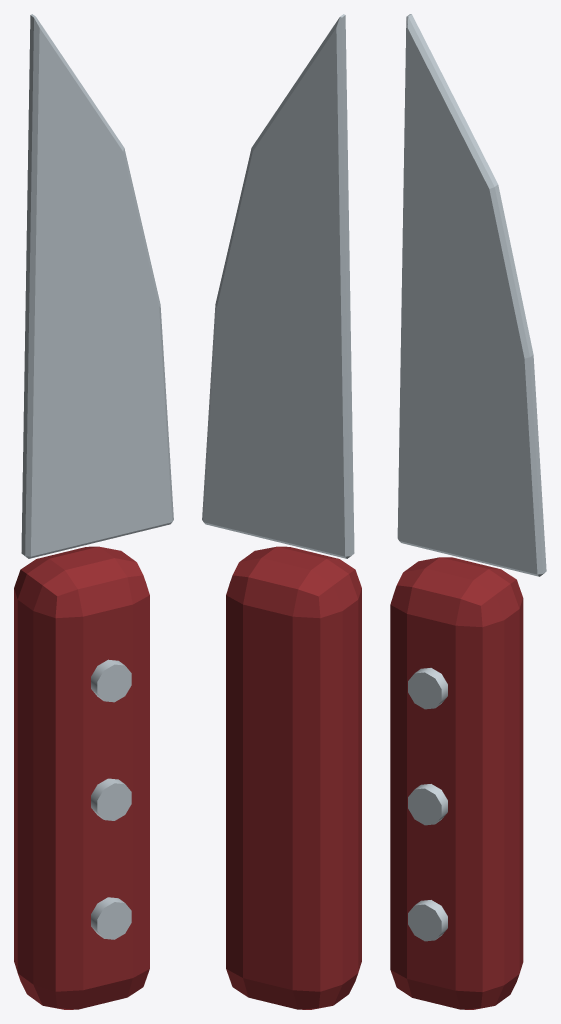
Rendered from knife_paring.glb.
3 renders of one model, left to right at view 1: azimuth 30°, elevation 25°; view 2: azimuth 150°, elevation 25°; view 3: azimuth 330°, elevation 25°, orthographic. The views are drawn at different scales.
Visible parts, largest first — view 1: Small paring blade, Paring knife handle, Handle rivet.001, Handle rivet.002, Handle rivet; view 2: Paring knife handle, Small paring blade; view 3: Small paring blade, Paring knife handle, Handle rivet.001, Handle rivet.002, Handle rivet.
Boxes of the visible parts, box(x1,y1,x2,y2) form: Small paring blade: box(21, 14, 173, 558); Paring knife handle: box(14, 546, 149, 1009); Handle rivet.001: box(91, 778, 131, 820); Handle rivet.002: box(91, 659, 131, 702); Handle rivet: box(91, 897, 131, 939); Paring knife handle: box(226, 546, 361, 1009); Small paring blade: box(202, 14, 354, 558); Small paring blade: box(397, 14, 546, 576); Paring knife handle: box(390, 557, 523, 1009); Handle rivet.001: box(408, 784, 447, 825); Handle rivet.002: box(408, 668, 447, 709); Handle rivet: box(408, 900, 447, 941).
Size of the model in its own units: 0.0329 by 0.2103 by 0.0225.
